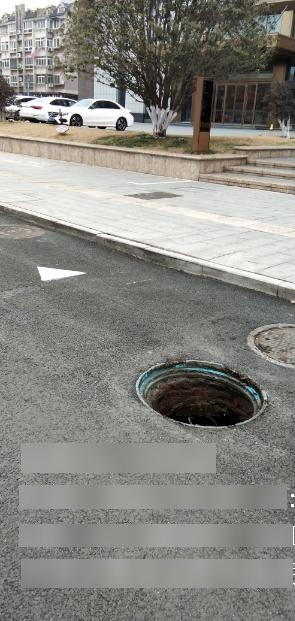lose: (135, 359, 268, 430)
